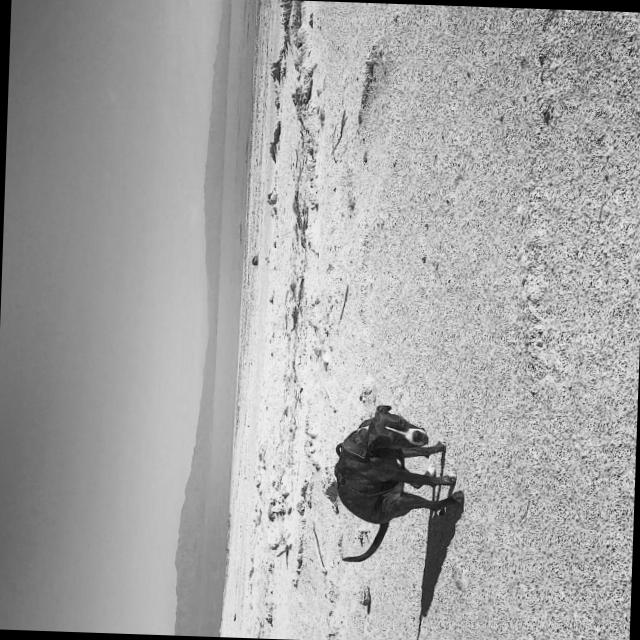squatting: (326, 400, 471, 568)
